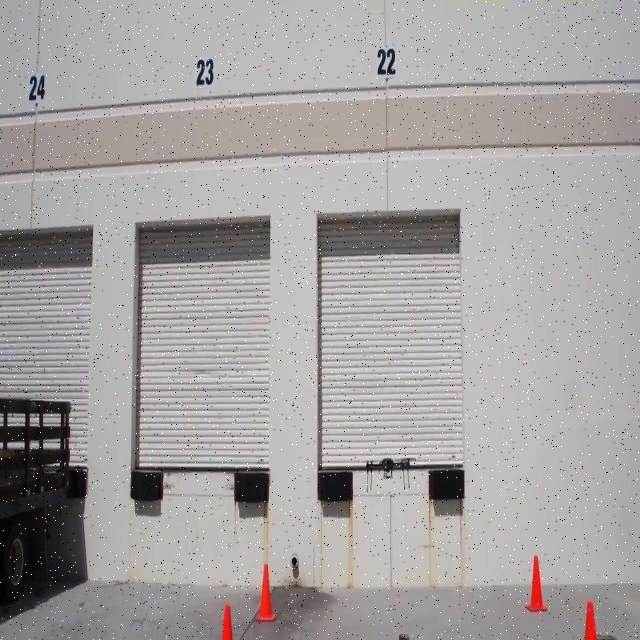UAV: (366, 457, 416, 493)
